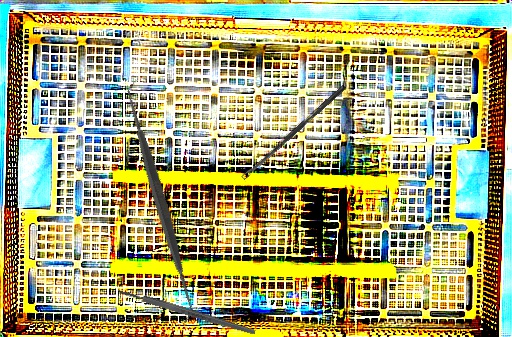Scalpel Handle: (117, 287, 257, 337)
Spatula Surgical: (37, 79, 283, 325)
Surgical Spoon: (240, 83, 347, 181)
